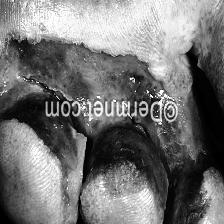Toxin: (0, 11, 74, 171), (101, 0, 199, 100)
